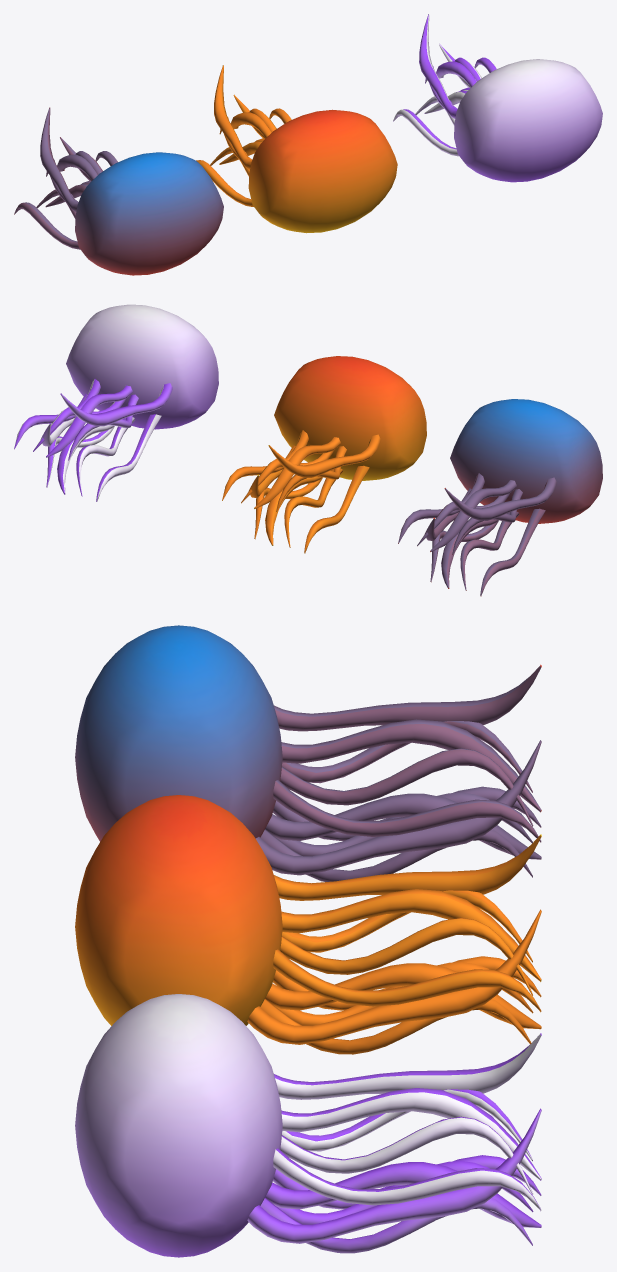
The model's file is Monster.fbx.
The picture shows the model from 3 angles, top to bottom: view 1: azimuth 30°, elevation 25°; view 2: azimuth 150°, elevation 25°; view 3: azimuth 270°, elevation 25°; orthographic projection. The views are drawn at different scales.
Parts seen in each view (by area): view 1: Sphere, Sphere.008, Sphere.007; view 2: Sphere.008, Sphere.007, Sphere; view 3: Sphere, Sphere.007, Sphere.008.
Boxes of the visible parts, box(x1,y1,x2,y2) form: Sphere: box(393, 14, 602, 182); Sphere.008: box(14, 107, 223, 275); Sphere.007: box(196, 65, 397, 233); Sphere.008: box(398, 399, 602, 596); Sphere.007: box(222, 356, 426, 553); Sphere: box(14, 304, 218, 501); Sphere: box(75, 994, 541, 1257); Sphere.007: box(75, 795, 541, 1054); Sphere.008: box(75, 625, 541, 881).
Bounding box in the file's own units: 4777 × 1015 × 1887.
